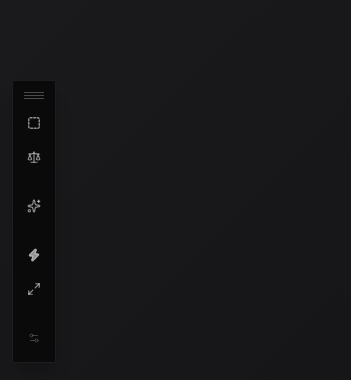
Test case: CustomizePopover — button list › should show EyeOff icon for hidden buttons
Click the button titled "Customize Toolbar".
click(34, 338)  # box x1=20 y1=324 x2=48 y2=352
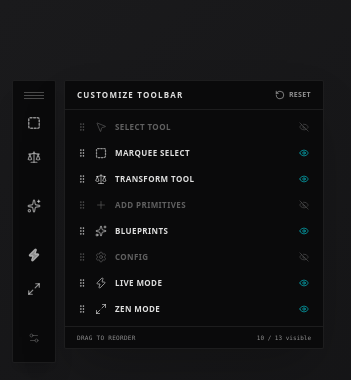
Check: the number of icons with class "lucide-eye" is 5, box x1=299 y1=148 x2=309 y2=158; x1=299 y1=174 x2=309 y2=184; x1=299 y1=226 x2=309 y2=236; x1=299 y1=278 x2=309 y2=288; x1=299 y1=304 x2=309 y2=314
Check: the number of icons with class "lucide-eye-off" is 3, box x1=299 y1=122 x2=309 y2=132; x1=299 y1=200 x2=309 y2=210; x1=299 y1=252 x2=309 y2=262
